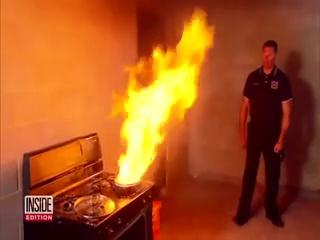Fire: (111, 10, 222, 190)
